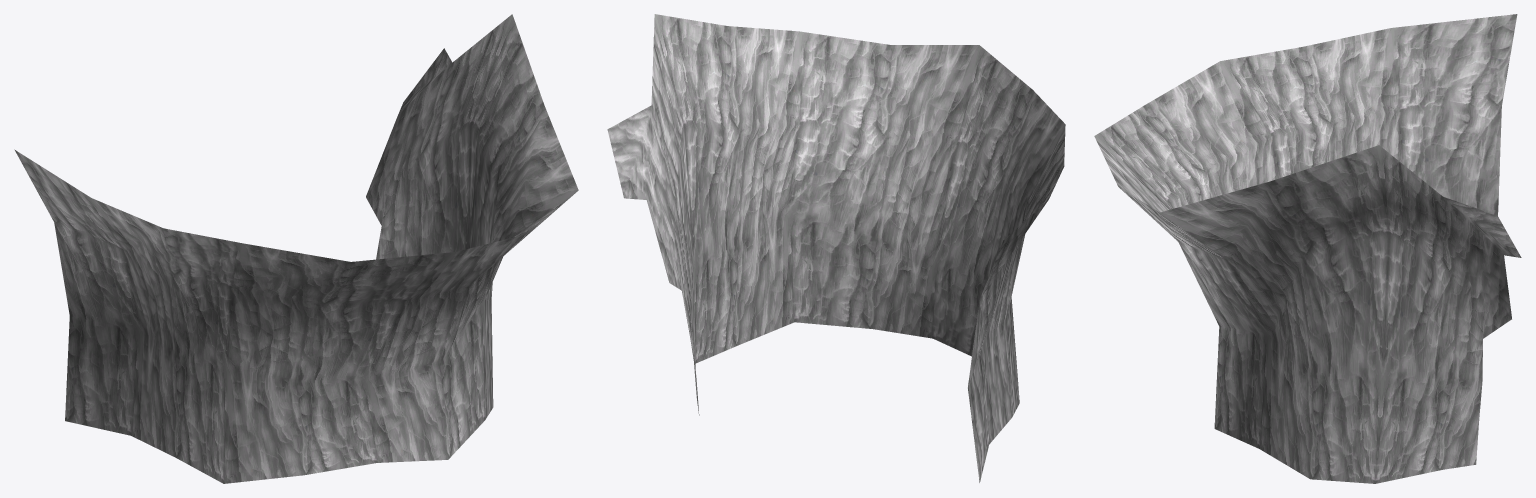
The model's file is SWORDLIGHT20_PS-AREA03_57.obj.
The picture shows the model from 3 angles, left to right: view 1: azimuth 30°, elevation 25°; view 2: azimuth 150°, elevation 25°; view 3: azimuth 270°, elevation 25°; orthographic projection. The views are drawn at different scales.
Parts seen in each view (by area): view 1: PS-Area03_57; view 2: PS-Area03_57; view 3: PS-Area03_57.
Boxes of the visible parts, <box> form: PS-Area03_57: <box>14,14,578,483</box>; PS-Area03_57: <box>607,14,1065,482</box>; PS-Area03_57: <box>1094,14,1521,483</box>.
Bounding box in the file's own units: 2000 × 1608 × 1700.
